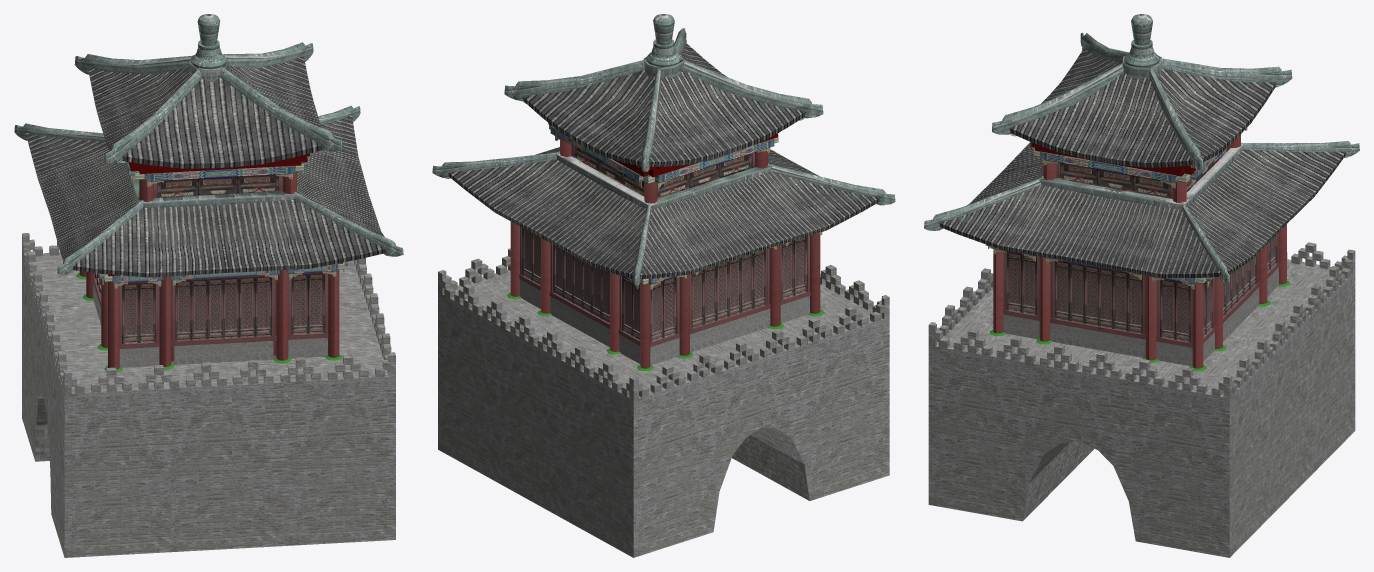
The model's file is 长廊门楼.FBX.
3 views of the same model, side by side, from view 1: azimuth 30°, elevation 25°; view 2: azimuth 150°, elevation 25°; view 3: azimuth 270°, elevation 25° (orthographic). The views are drawn at different scales.
Parts seen in each view (by area): view 1: Box010, Group228, Box008, Box009, Rectangle2195, Rectangle2198, Line525; view 2: Box010, Group228, Box008, Box009, Rectangle2195, Rectangle2198, Line525; view 3: Box010, Group228, Box008, Box009, Rectangle2195, Rectangle2198, Line525.
Boxes of the visible parts, bbox=[...] form: Box010: bbox=[22, 233, 395, 557]; Group228: bbox=[14, 42, 403, 277]; Box008: bbox=[76, 190, 347, 371]; Box009: bbox=[125, 153, 309, 201]; Rectangle2195: bbox=[93, 282, 327, 367]; Rectangle2198: bbox=[127, 172, 299, 207]; Line525: bbox=[191, 14, 226, 68]; Box010: bbox=[438, 248, 889, 557]; Group228: bbox=[432, 28, 895, 285]; Box008: bbox=[507, 162, 823, 371]; Box009: bbox=[548, 123, 779, 203]; Rectangle2195: bbox=[520, 279, 809, 364]; Rectangle2198: bbox=[556, 151, 772, 209]; Line525: bbox=[646, 14, 681, 66]; Box010: bbox=[928, 242, 1355, 557]; Group228: bbox=[924, 32, 1359, 282]; Box008: bbox=[985, 156, 1290, 371]; Box009: bbox=[1031, 122, 1251, 202]; Rectangle2195: bbox=[1003, 267, 1278, 365]; Rectangle2198: bbox=[1039, 142, 1244, 209]; Line525: bbox=[1124, 14, 1159, 67].
Size of the model in its own units: 1162 by 1318 by 1148.
